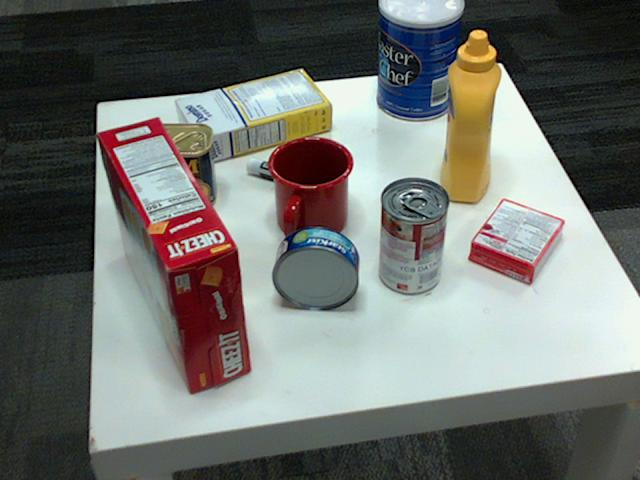cracker_box: (95, 116, 251, 391)
gelatin_box: (470, 198, 565, 283)
large_marker: (245, 160, 341, 196)
master_chef_can: (375, 0, 462, 120)
mug: (268, 133, 355, 238)
mustard_bottle: (439, 31, 501, 201)
potted_meat_can: (117, 123, 217, 211)
sugar_box: (175, 67, 333, 162)
tomato_soup_can: (379, 177, 449, 293)
tuna_fish_can: (273, 226, 360, 309)
